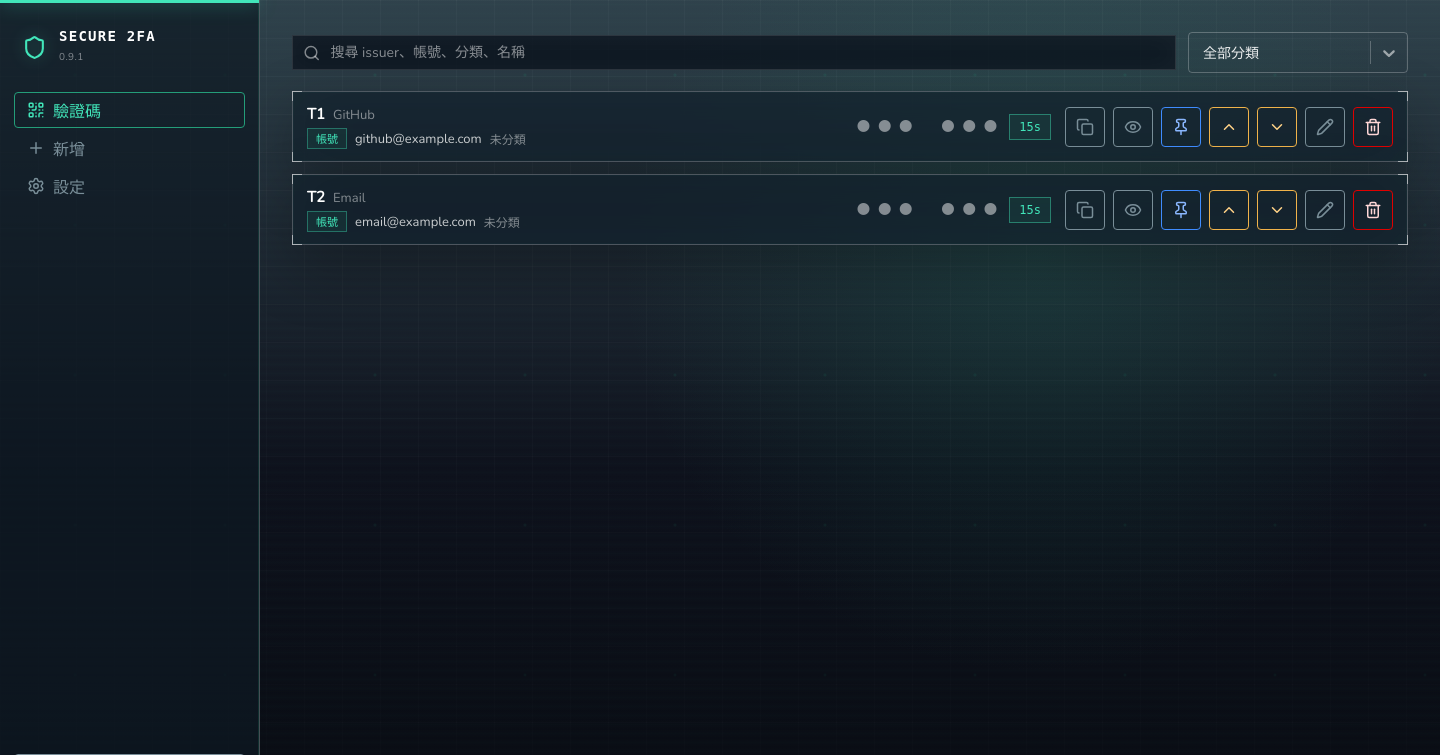
Test case: App flows › switches UI language to English
Expected: the button "驗證碼" is shown, [14,92,245,128]
Click the button "設定" at (130, 186), box [14,168,245,204]
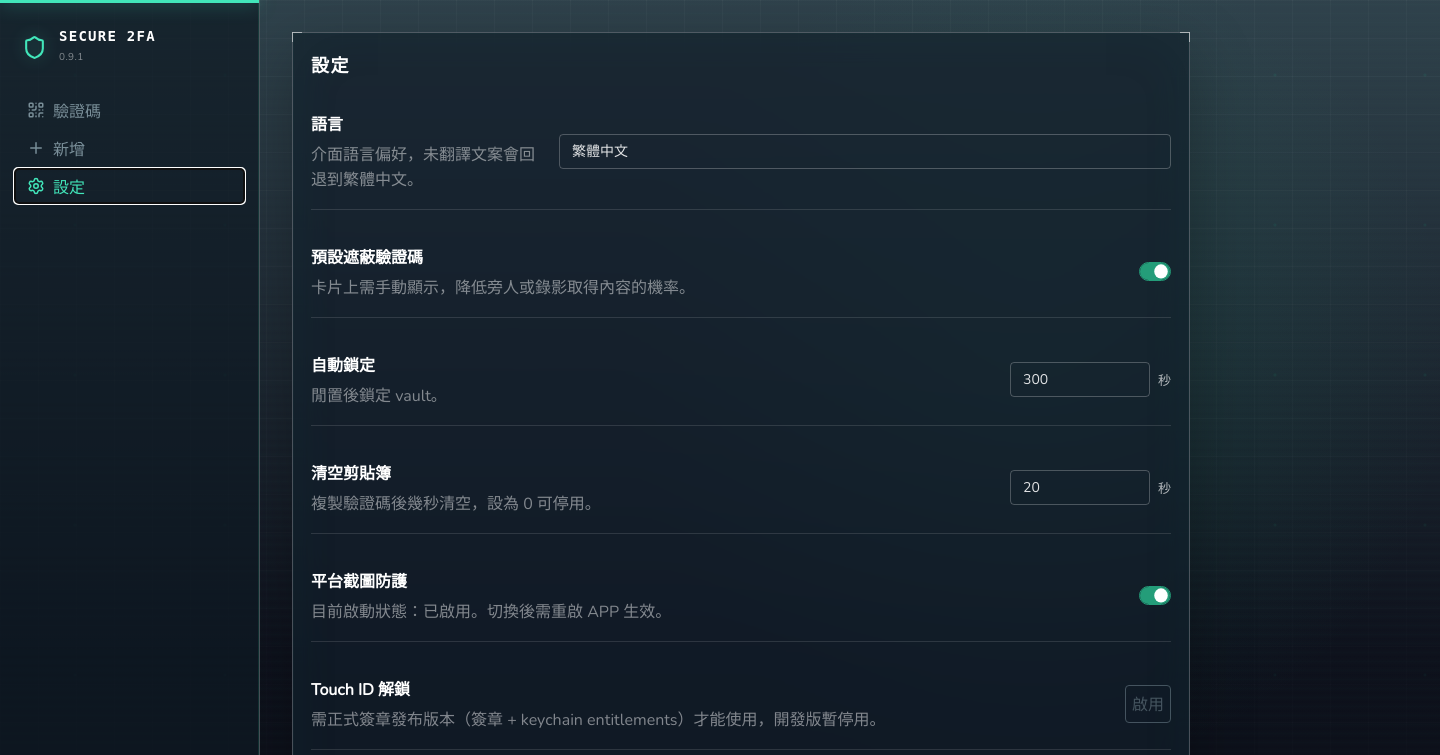
Select "English" in the dropdown showing "繁體中文" at (865, 151), box [559,134,1171,168]
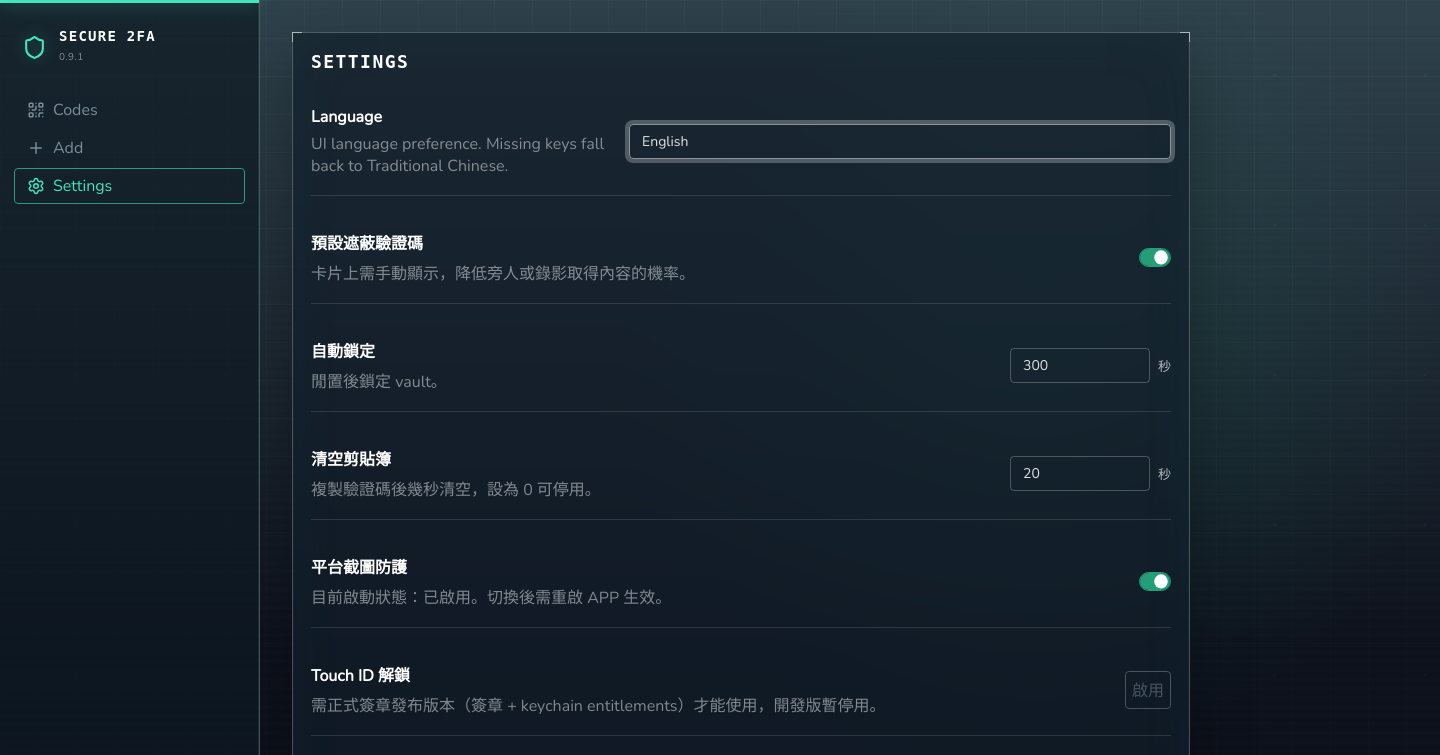
Now the button "Codes" is shown, box [14,92,245,128]
Now the button "Settings" is shown, box [14,168,245,204]
